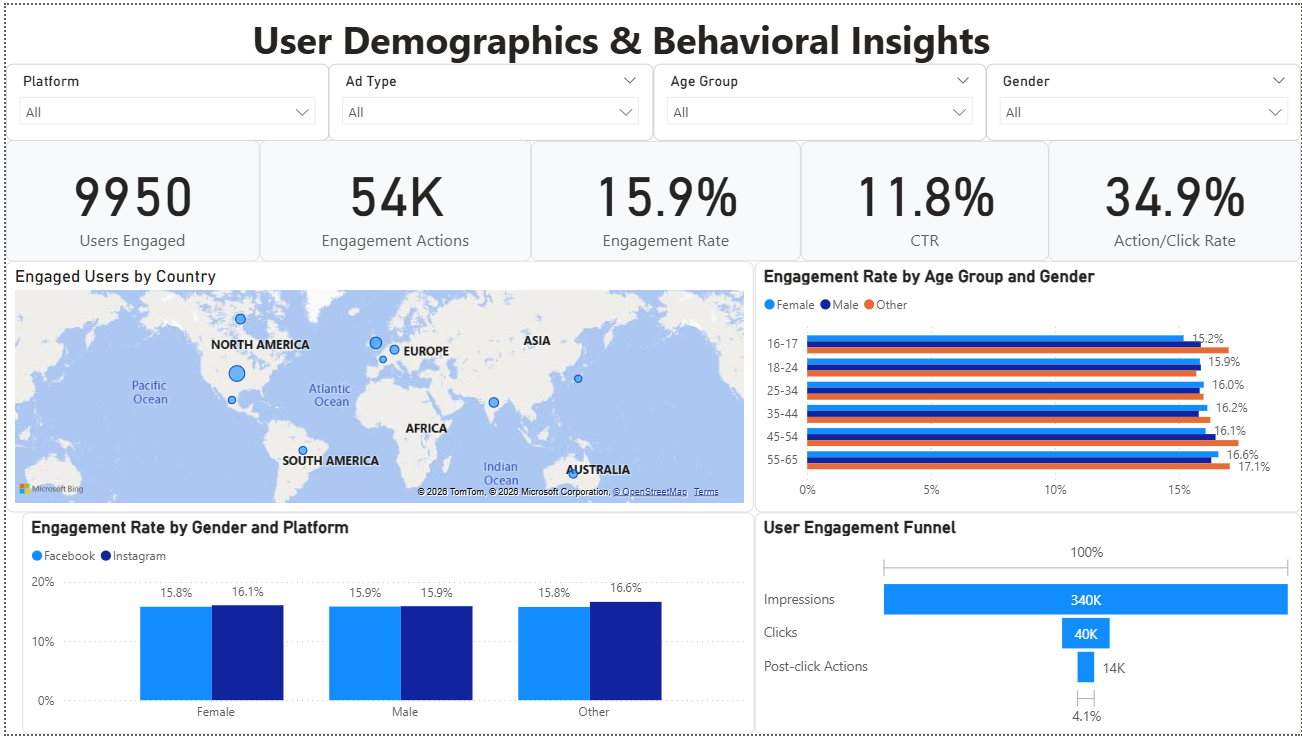

The page's visual inventory and layout, read from the dashboard file:
{"tool":"powerbi","page":{"name":"User Demographics & Behavioral Insights","canvas":[1280,720],"ordinal":2},"visuals":[{"type":"clusteredBarChart","title":"Engagement Rate by Age Group and Gender","fields":{"Category":["DimUsers.age_group"],"Series":["DimUsers.user_gender"],"Y":["FactAdEvents.Engagement Rate (%)"]},"box":[739.6,252.5,540.7,248.4],"z":0},{"type":"clusteredColumnChart","title":"Engagement Rate by Gender and Platform","fields":{"Category":["DimUsers.user_gender"],"Series":["DimAds.ad_platform"],"Y":["FactAdEvents.Engagement Rate (%)"]},"box":[16.5,500.9,723.2,219.6],"z":1000},{"type":"funnel","title":"User Engagement Funnel","fields":{"Category":["InteractionStage.Stage"],"Y":["InteractionStage.Interaction Stage Value"]},"box":[739.6,500.9,540.7,219.6],"z":2000},{"type":"textbox","box":[207,3.1,773.7,78.8],"z":3000},{"type":"slicer","title":"Platforms","fields":{"Values":["DimAds.ad_platform"]},"box":[0,57.8,319,75.6],"z":5000},{"type":"card","fields":{"Values":["FactAdEvents.Engagement Rate (%)"]},"box":[518.4,134.8,266.8,118.3],"z":6000},{"type":"card","fields":{"Values":["FactAdEvents.Action/Click %"]},"box":[1030,133.4,250.3,119.6],"z":7000},{"type":"card","fields":{"Values":["FactAdEvents.Distinct Users Engaged"]},"box":[0,133.4,250.3,119.6],"z":8000},{"type":"slicer","title":"Gender","fields":{"Values":["DimUsers.user_gender"]},"box":[968.1,57.8,312.2,75.6],"z":9000},{"type":"slicer","fields":{"Values":["DimUsers.age_group"]},"box":[639.5,57.8,328.7,75.6],"z":10000},{"type":"slicer","fields":{"Values":["DimAds.ad_type"]},"box":[319,57.8,320.4,75.6],"z":11000},{"type":"card","fields":{"Values":["FactAdEvents.Engagement Actions"]},"box":[250.3,133.4,268.2,119.6],"z":12000},{"type":"card","fields":{"Values":["FactAdEvents.CTR"]},"box":[785.2,134.8,244.8,118.3],"z":13000},{"type":"map","title":"Engaged Users by Country","fields":{"Category":["DimUsers.country"],"Size":["FactAdEvents.Distinct Users Engaged"]},"box":[0,252.5,738.3,248.4],"z":13001}]}

Visuals, with their boxes in screenshot pixels (x1, y1, x2, y2), scaled from the page's 1280x720 canvas onto the 1302x736 screenshot:
"Engagement Rate by Age Group and Gender" clusteredBarChart: <region>752, 258, 1301, 512</region>
"Engagement Rate by Gender and Platform" clusteredColumnChart: <region>17, 512, 752, 735</region>
"User Engagement Funnel" funnel: <region>752, 512, 1301, 735</region>
textbox: <region>211, 3, 998, 84</region>
"Platforms" slicer: <region>0, 59, 324, 136</region>
card - FactAdEvents.Engagement Rate (%): <region>527, 138, 799, 259</region>
card - FactAdEvents.Action/Click %: <region>1048, 136, 1301, 259</region>
card - FactAdEvents.Distinct Users Engaged: <region>0, 136, 255, 259</region>
"Gender" slicer: <region>985, 59, 1301, 136</region>
slicer - DimUsers.age_group: <region>650, 59, 985, 136</region>
slicer - DimAds.ad_type: <region>324, 59, 650, 136</region>
card - FactAdEvents.Engagement Actions: <region>255, 136, 527, 259</region>
card - FactAdEvents.CTR: <region>799, 138, 1048, 259</region>
"Engaged Users by Country" map: <region>0, 258, 751, 512</region>
